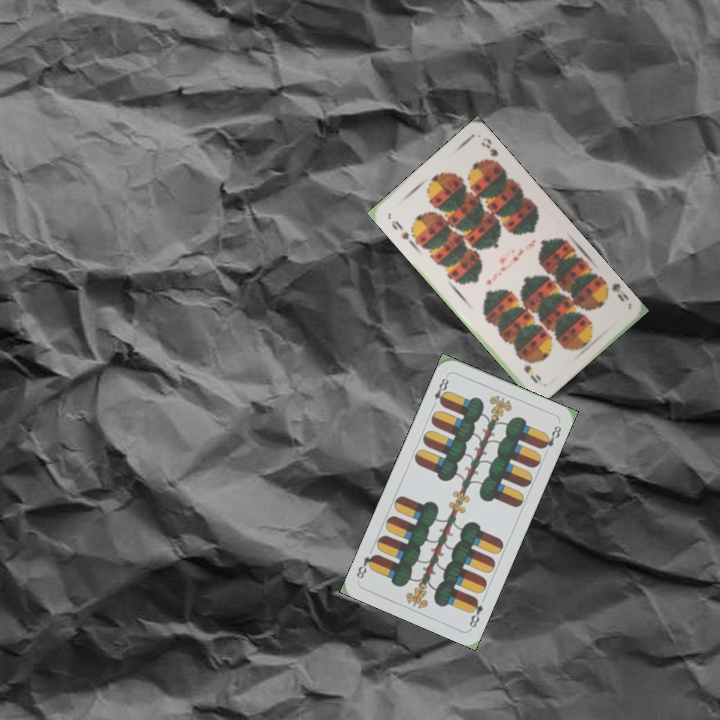E8: (428, 371, 451, 410), (465, 594, 486, 631)
S9: (597, 276, 631, 304), (387, 216, 412, 242)
